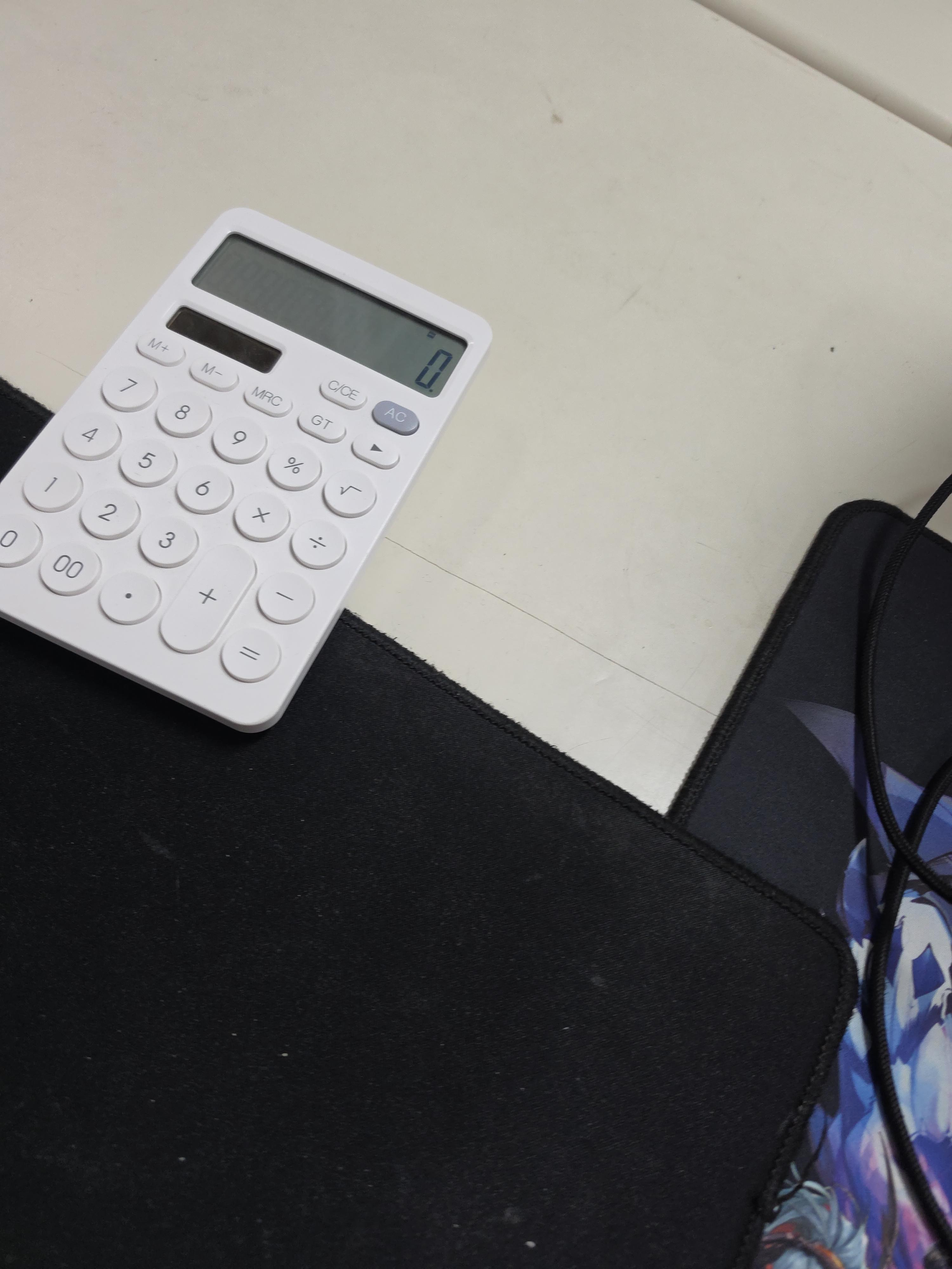calculator: (0, 206, 494, 735)
